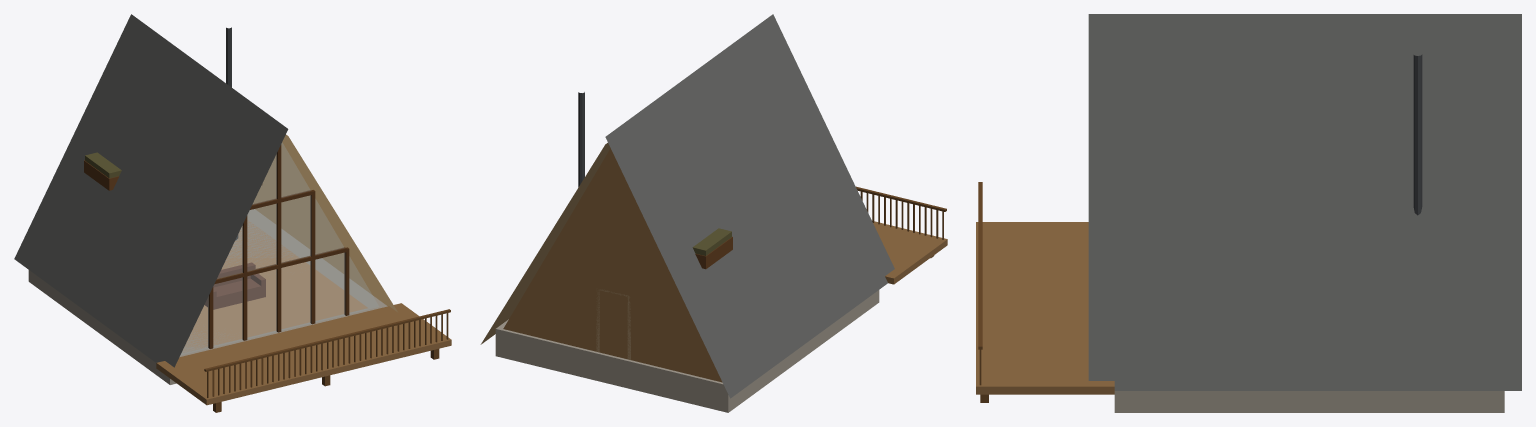
The model's file is aframe.glb.
The picture shows the model from 3 angles, left to right: view 1: azimuth 30°, elevation 25°; view 2: azimuth 150°, elevation 25°; view 3: azimuth 270°, elevation 25°; orthographic projection. The views are drawn at different scales.
Visible parts, largest first — view 1: LOD0; view 2: LOD0; view 3: LOD0.
Boxes of the visible parts, x1,y1,x2,y2 form: LOD0: (14,14,451,412); LOD0: (480,14,947,412); LOD0: (976,14,1521,412).
Size of what is drawn, in the model's own units: 9 by 8.3 by 12.6.
